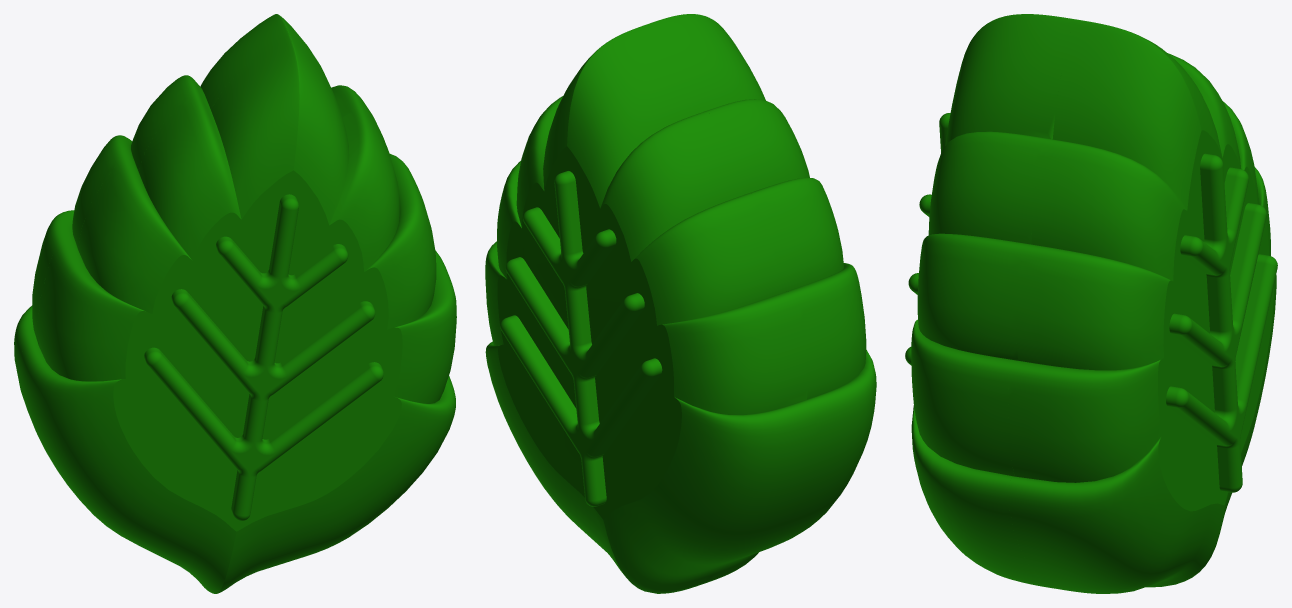
Rendered from feuille.glb.
3 views of the same model, side by side, from view 1: azimuth 30°, elevation 25°; view 2: azimuth 150°, elevation 25°; view 3: azimuth 270°, elevation 25° (orthographic). The views are drawn at different scales.
Visible parts, largest first — view 1: leaf candy_; view 2: leaf candy_; view 3: leaf candy_.
Part boxes in pixels (bbox=[...]): leaf candy_: bbox=[14, 14, 456, 593]; leaf candy_: bbox=[485, 14, 876, 593]; leaf candy_: bbox=[905, 14, 1277, 593].
Bounding box in the file's own units: 0.0522 × 0.0695 × 0.0391.
